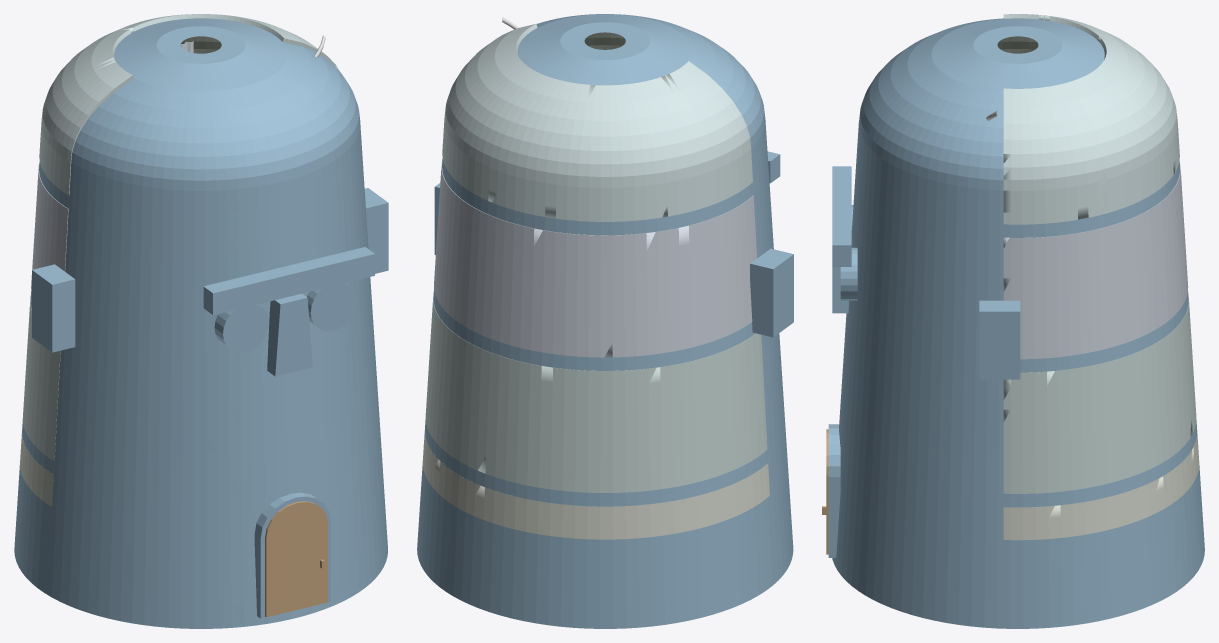
The model's file is squidward-house-layout-v8.glb.
3 renders of one model, left to right at view 1: azimuth 30°, elevation 25°; view 2: azimuth 150°, elevation 25°; view 3: azimuth 270°, elevation 25°, orthographic.
Visible parts, largest first — view 1: shell_cutaway_cover, shell_main, bath_wall_back, door_panel, shell_eyebrow, living_wall_back, shell_ear_L, shell_nose, bedroom_wall_back, shell_porthole_L, door_frame, shell_porthole_R (+2 smaller); view 2: shell_main, bath_wall_back, living_wall_back, bedroom_wall_back, kitchen_wall_back, shell_cutaway_cover, shell_ear_L; view 3: shell_main, bath_wall_back, living_wall_back, bedroom_wall_back, kitchen_wall_back, shell_ear_R, shell_cutaway_cover, shell_eyebrow, door_frame, shell_porthole_R, shell_nose.
Part boxes in pixels (x1=…): shell_cutaway_cover: x1=69, y1=51, x2=280, y2=628; shell_main: x1=14, y1=18, x2=387, y2=621; bath_wall_back: x1=39, y1=14, x2=339, y2=195; door_panel: x1=265, y1=501, x2=327, y2=617; shell_eyebrow: x1=203, y1=247, x2=374, y2=315; living_wall_back: x1=22, y1=295, x2=60, y2=461; shell_ear_L: x1=32, y1=264, x2=75, y2=352; shell_nose: x1=267, y1=293, x2=312, y2=376; bedroom_wall_back: x1=31, y1=162, x2=68, y2=293; shell_porthole_L: x1=214, y1=304, x2=268, y2=352; door_frame: x1=254, y1=492, x2=330, y2=618; shell_porthole_R: x1=307, y1=283, x2=356, y2=331; shell_main: x1=417, y1=14, x2=786, y2=628; bath_wall_back: x1=442, y1=24, x2=752, y2=221; living_wall_back: x1=425, y1=294, x2=767, y2=492; bedroom_wall_back: x1=434, y1=160, x2=756, y2=357; kitchen_wall_back: x1=422, y1=429, x2=769, y2=539; shell_cutaway_cover: x1=617, y1=21, x2=793, y2=569; shell_ear_L: x1=750, y1=248, x2=793, y2=337; shell_main: x1=832, y1=18, x2=1204, y2=628; bath_wall_back: x1=1003, y1=14, x2=1179, y2=224; living_wall_back: x1=1003, y1=295, x2=1196, y2=493; bedroom_wall_back: x1=1003, y1=162, x2=1188, y2=359; kitchen_wall_back: x1=1003, y1=433, x2=1199, y2=540; shell_ear_R: x1=979, y1=300, x2=1020, y2=379; shell_cutaway_cover: x1=861, y1=19, x2=1012, y2=105; shell_eyebrow: x1=832, y1=166, x2=851, y2=266; door_frame: x1=828, y1=424, x2=840, y2=557; shell_porthole_R: x1=840, y1=247, x2=857, y2=300; shell_nose: x1=832, y1=267, x2=848, y2=313.
Size of the model in its own units: 3.22 by 4.62 by 3.17.
